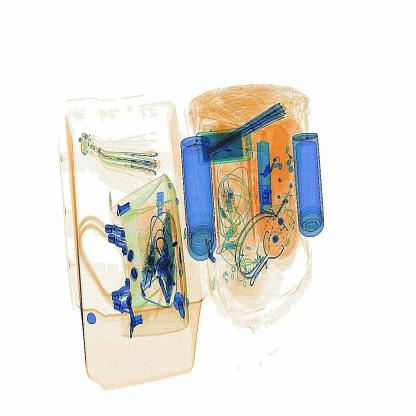pliers: (251, 138, 278, 222)
